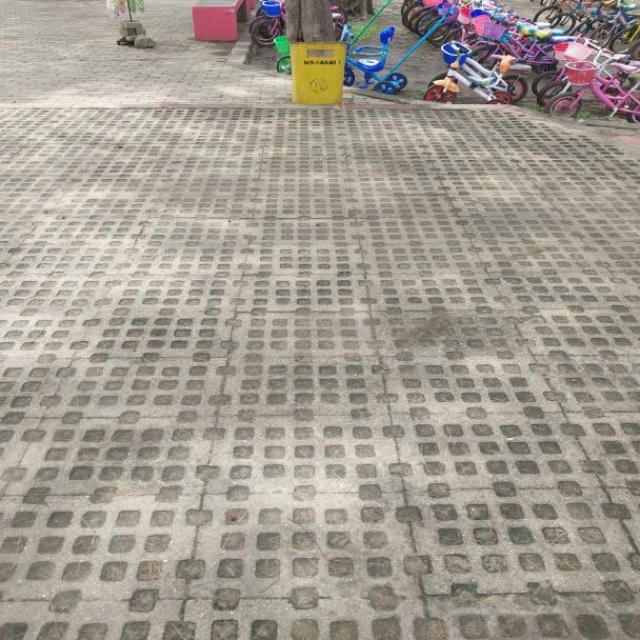dustbin ahead at: (286, 41, 346, 106)
